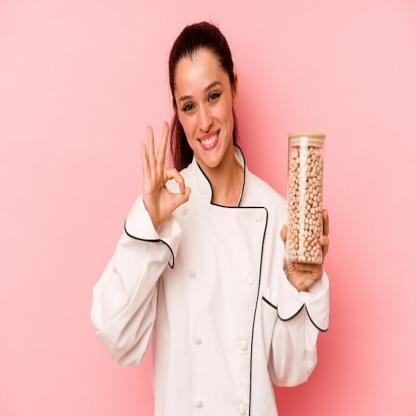ok: (138, 119, 193, 225)
